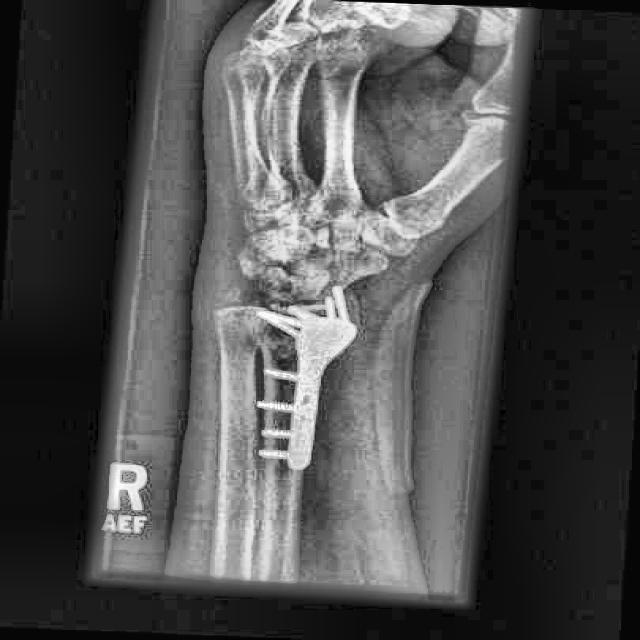wrist positive: (206, 301, 318, 376)
